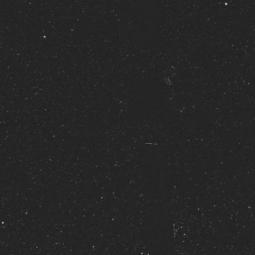smart_1: (131, 91, 192, 224)
